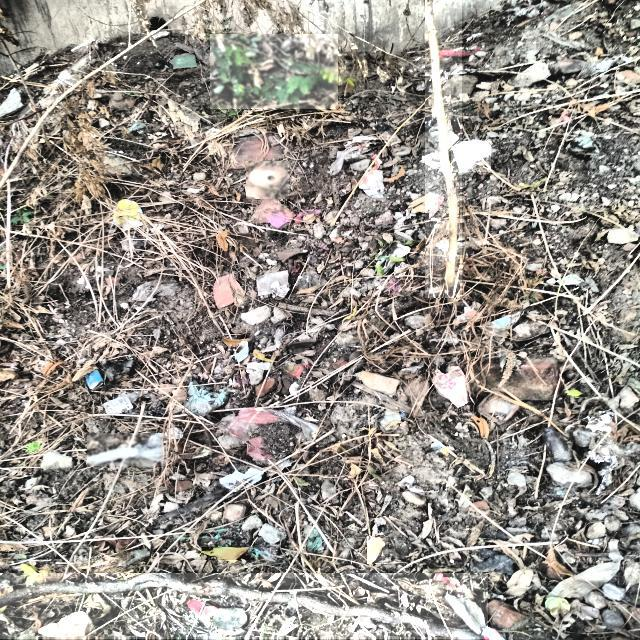anorganik: (87, 434, 163, 466), (247, 161, 288, 199), (452, 141, 490, 171)
organik: (0, 574, 481, 638), (426, 0, 461, 298), (211, 34, 338, 108), (201, 548, 255, 560), (368, 537, 387, 564)
